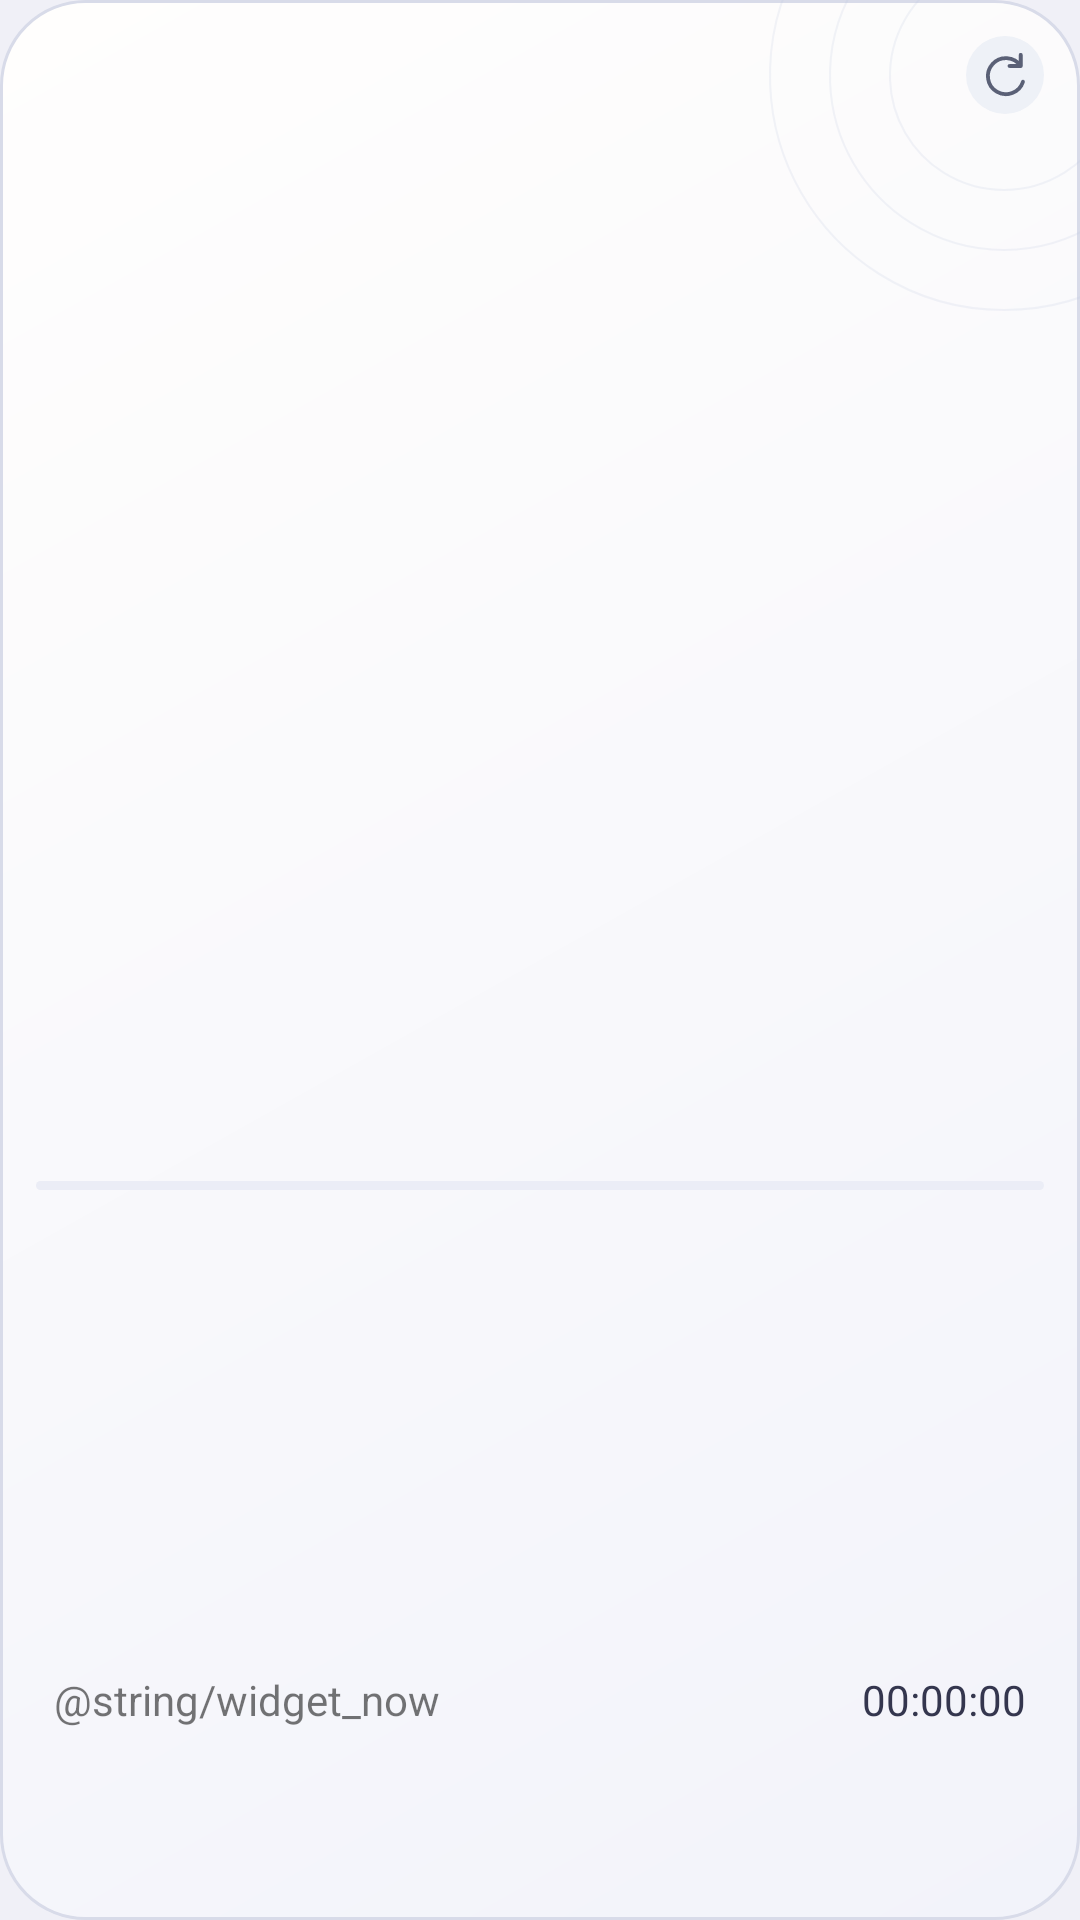

Icons on this 1080w x 1920h Android screen, each with the point to tap as (x,y):
刷新班次信息: (1005,75)
